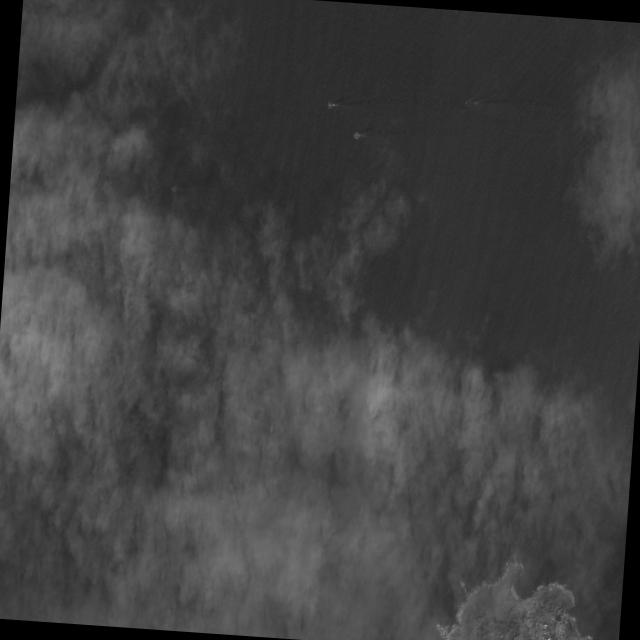ship: (352, 132, 362, 136), (464, 100, 473, 104), (326, 102, 334, 106), (170, 186, 177, 189), (269, 427, 271, 432)
